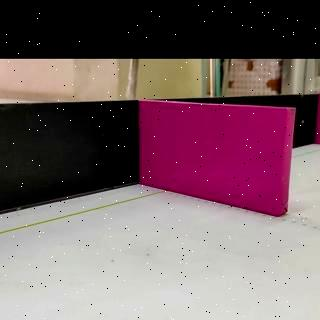xparking: (137, 109, 286, 206)
